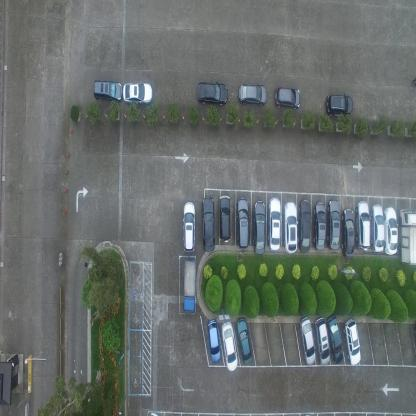car: (398, 206, 416, 267), (221, 320, 238, 372), (298, 317, 316, 365), (268, 195, 283, 252), (326, 314, 343, 363), (196, 80, 228, 106), (201, 194, 215, 253), (298, 197, 312, 255), (92, 77, 123, 103), (236, 317, 253, 364), (183, 258, 197, 314), (355, 200, 370, 252), (383, 205, 398, 257), (312, 199, 327, 250), (283, 200, 297, 254), (235, 196, 249, 250), (238, 82, 267, 108), (253, 198, 266, 256), (314, 318, 330, 365), (182, 199, 196, 252), (344, 319, 360, 365), (341, 208, 355, 259), (122, 80, 153, 103), (328, 197, 341, 251), (274, 85, 301, 110), (326, 92, 353, 117), (371, 204, 384, 254), (207, 317, 221, 362), (218, 193, 230, 244)
